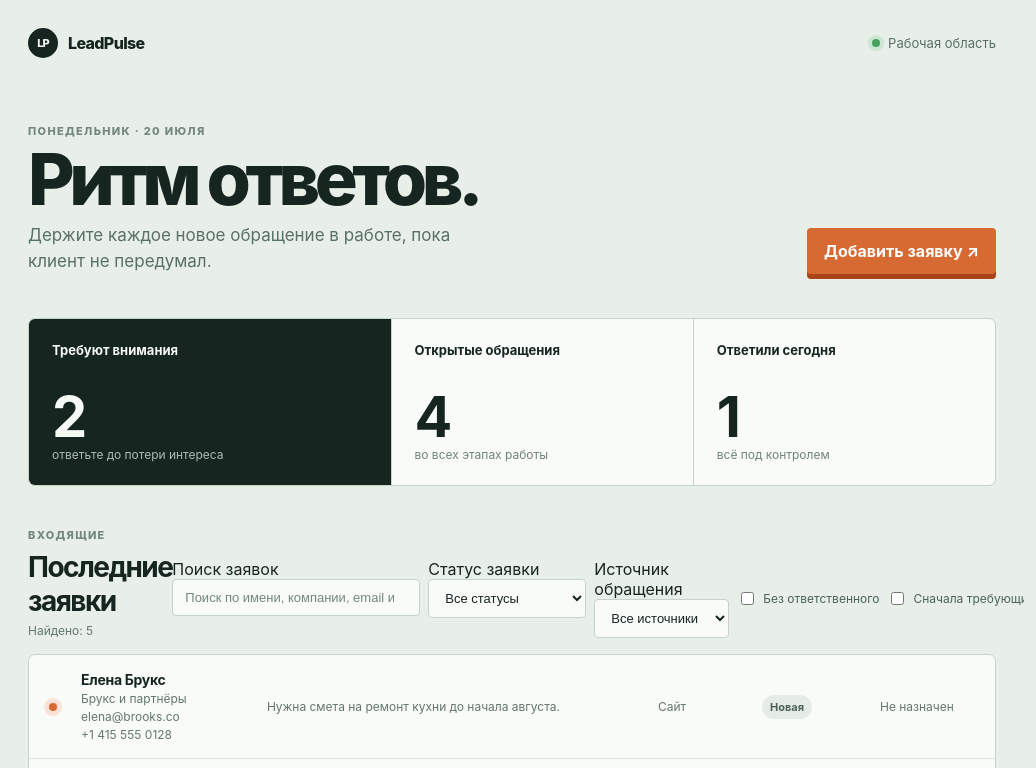
Test: filters leads by customer name
The width and height of the screenshot is (1036, 768).
Type "София" into the search field at (296, 598), box [172, 579, 420, 616]
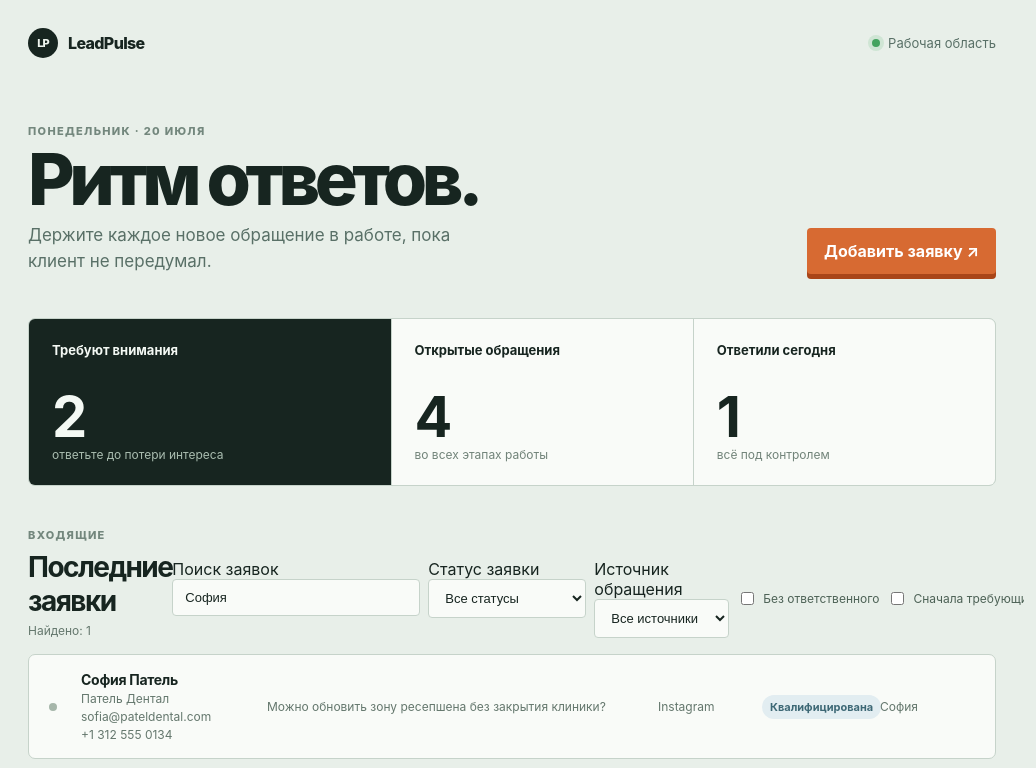
Expected: the text "София Патель" is shown, [81, 671, 178, 688]
Expected: the text "Елена Брукс" is gone
